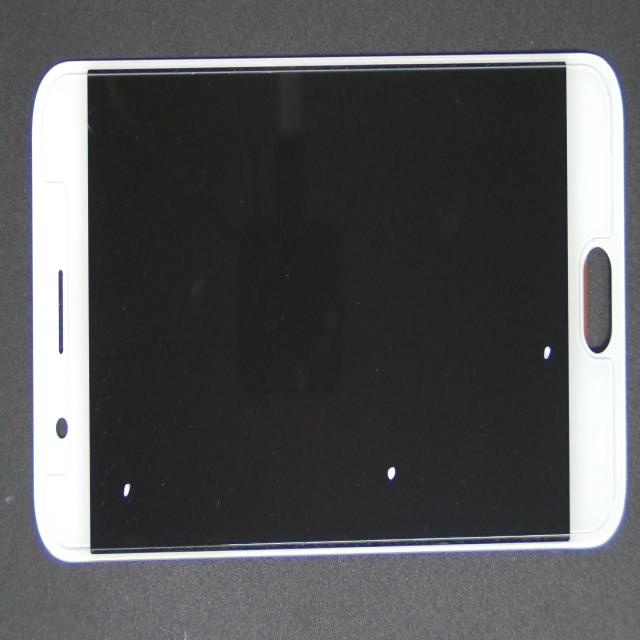stain: (174, 187, 577, 640), (260, 104, 640, 513), (84, 235, 201, 640)
